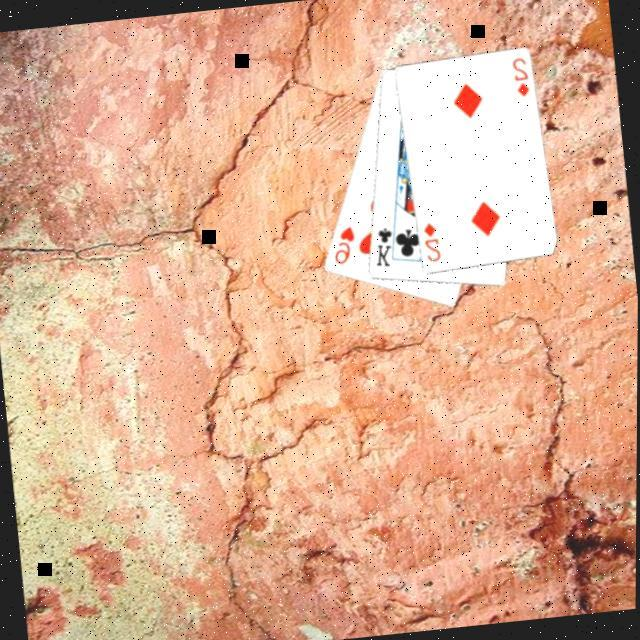2D: (420, 220, 444, 266), (510, 56, 534, 101)
9H: (328, 223, 361, 270)
KC: (368, 222, 404, 272)
